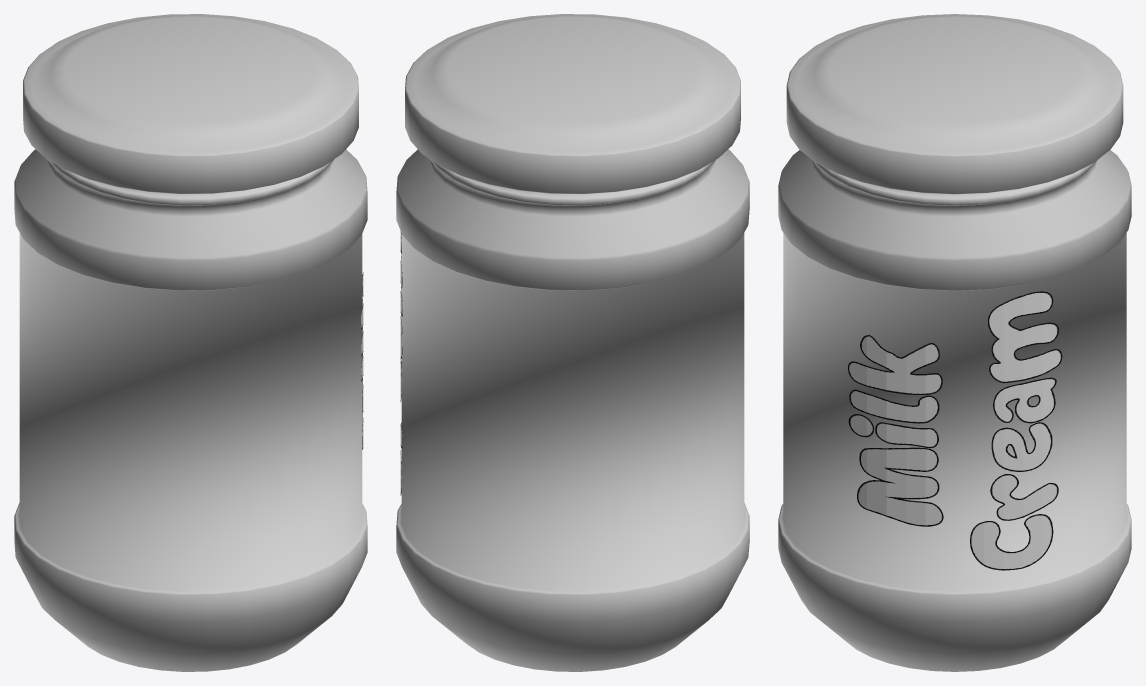
File: milk_cream.fbx
3 views of the same model, side by side, from view 1: azimuth 30°, elevation 25°; view 2: azimuth 150°, elevation 25°; view 3: azimuth 270°, elevation 25° (orthographic).
Visible parts, largest first — view 1: Cylinder.002; view 2: Cylinder.002; view 3: Cylinder.002.
Boxes of the visible parts, x1,y1,x2,y2 form: Cylinder.002: (14, 14, 367, 671); Cylinder.002: (396, 14, 749, 671); Cylinder.002: (778, 14, 1131, 671).
Bounding box in the file's own units: 9.13 × 15.8 × 9.13.
